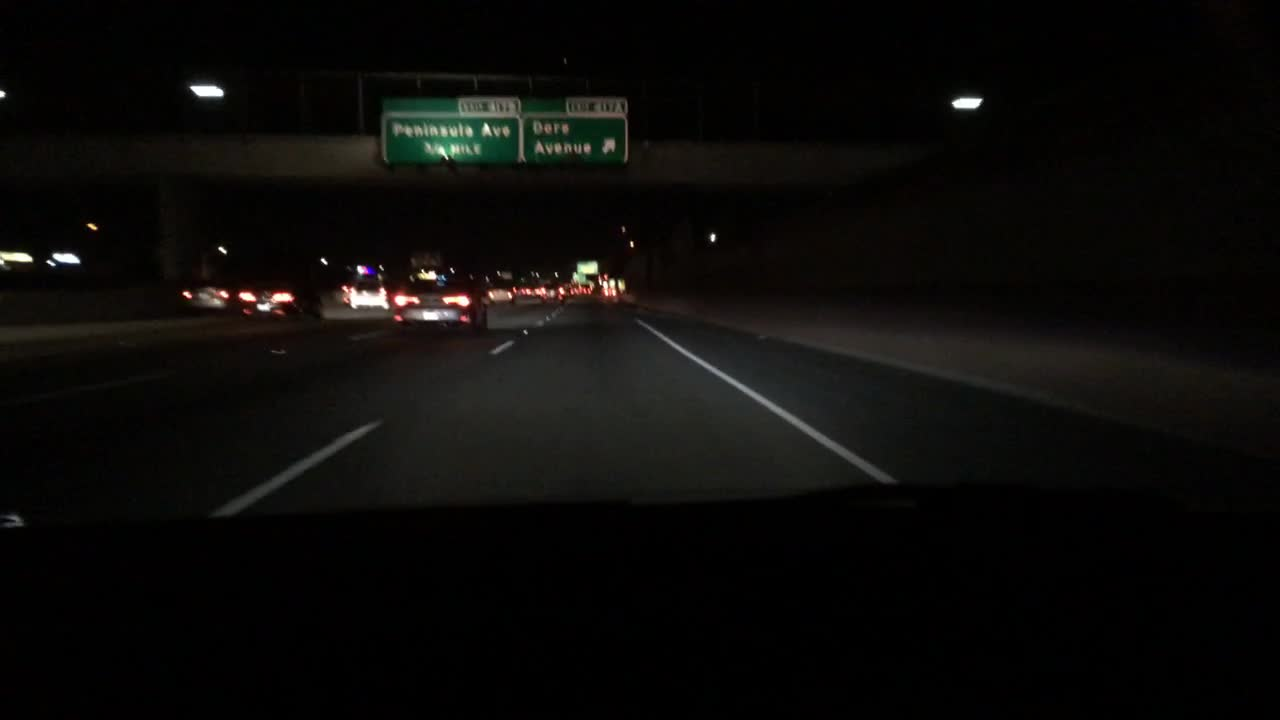car: (396, 270, 487, 334), (230, 272, 328, 321), (175, 278, 230, 310), (346, 277, 389, 309), (515, 284, 546, 310), (487, 279, 515, 303), (546, 284, 566, 303)
traffic sign: (379, 97, 521, 167), (521, 97, 630, 163), (576, 262, 600, 274), (572, 270, 585, 281)
